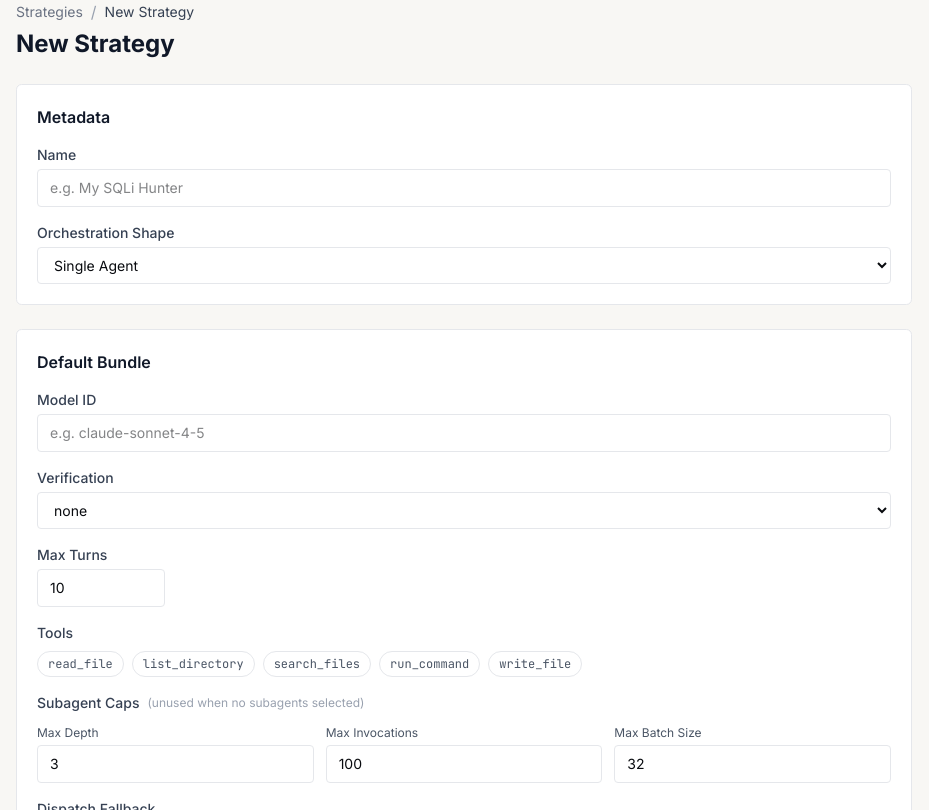
Test case: StrategyEditor — new strategy › shows server errors when createStrategy fails
The width and height of the screenshot is (929, 810).
Step 1. Type "Bad Strategy" into the field with test id "name-input" → (464, 188), box [37, 169, 891, 207]
(page scrolled)
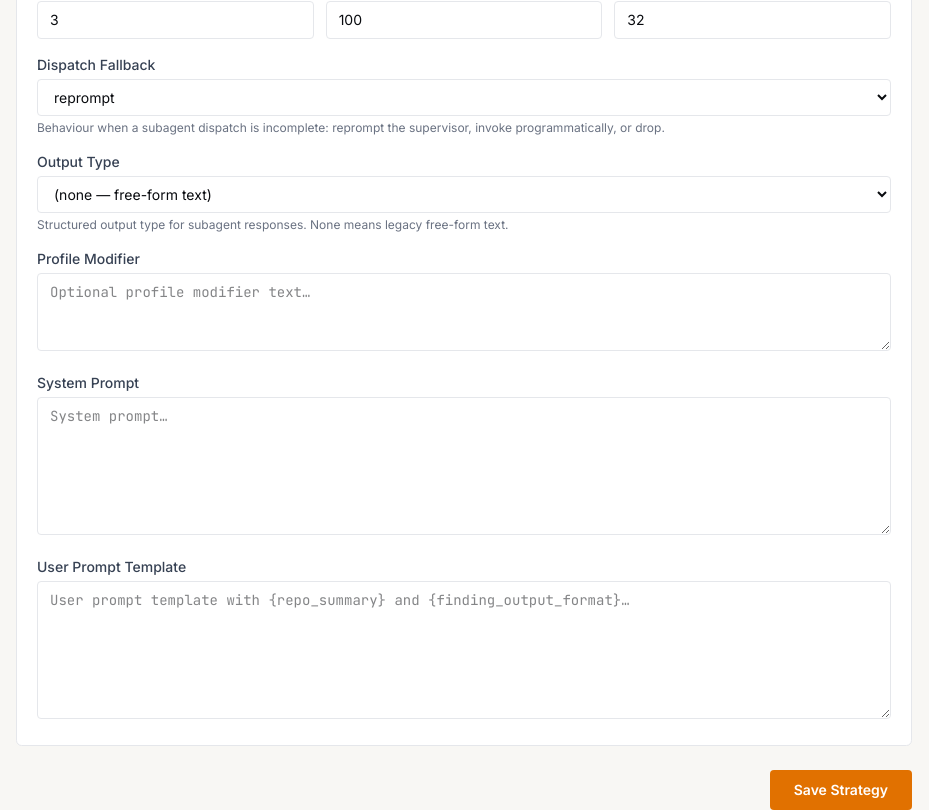
Step 2. Click the button with test id "save-btn" → (841, 790), box [770, 770, 912, 809]
(page scrolled)
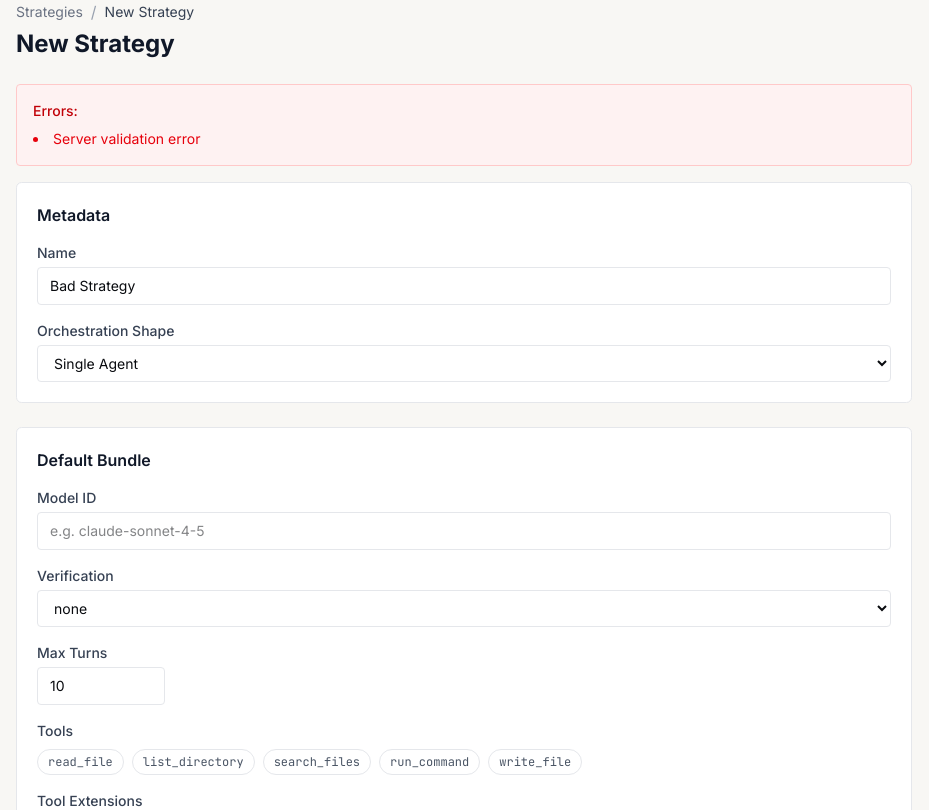
expect the list item "Server validation error" is shown: met, box [53, 130, 200, 147]
